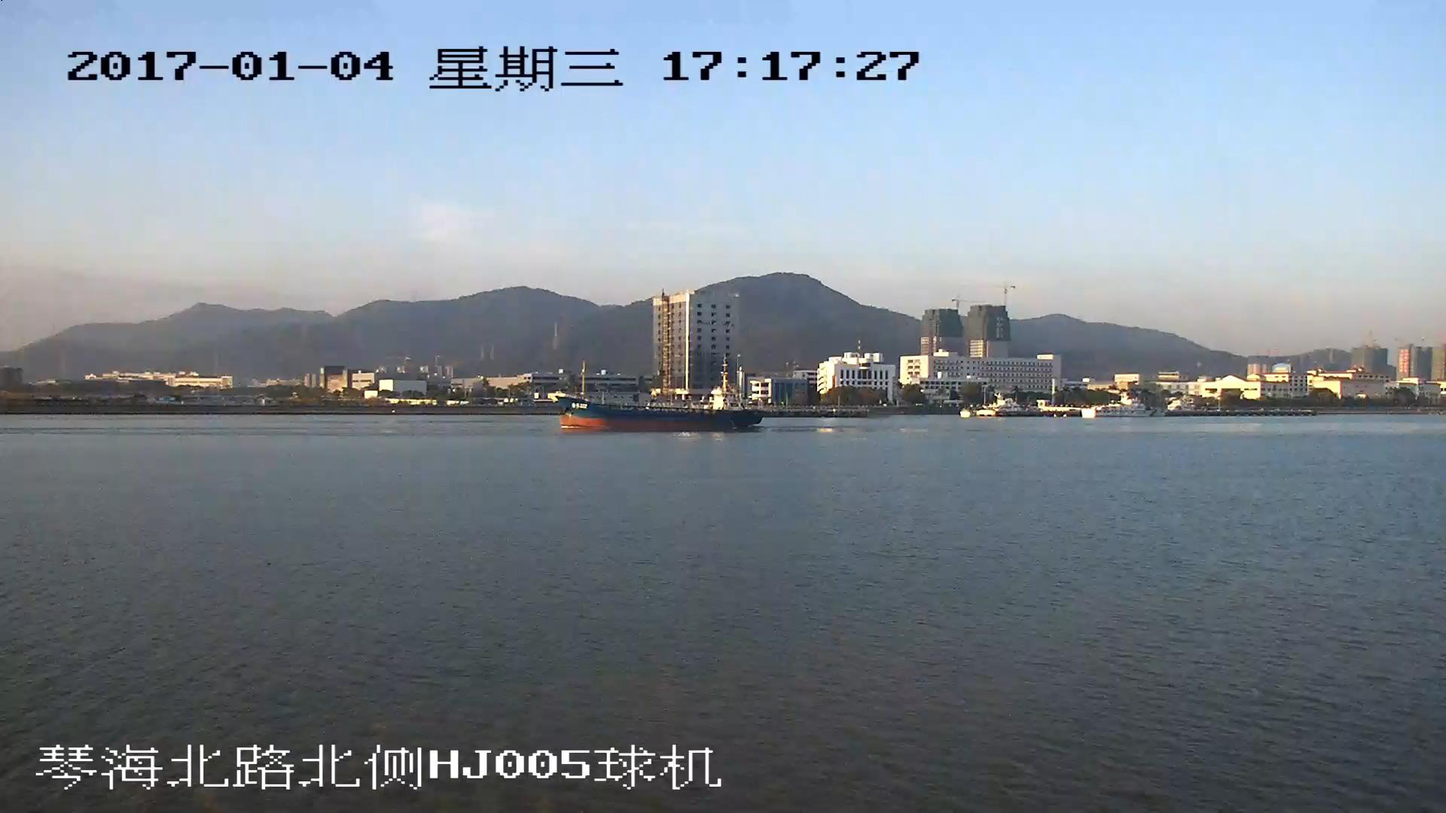general cargo ship: (554, 358, 765, 431)
